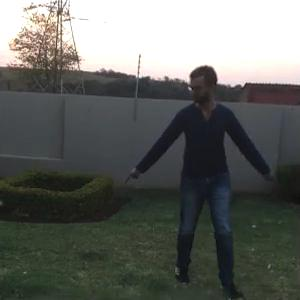land: (127, 69, 293, 285)
